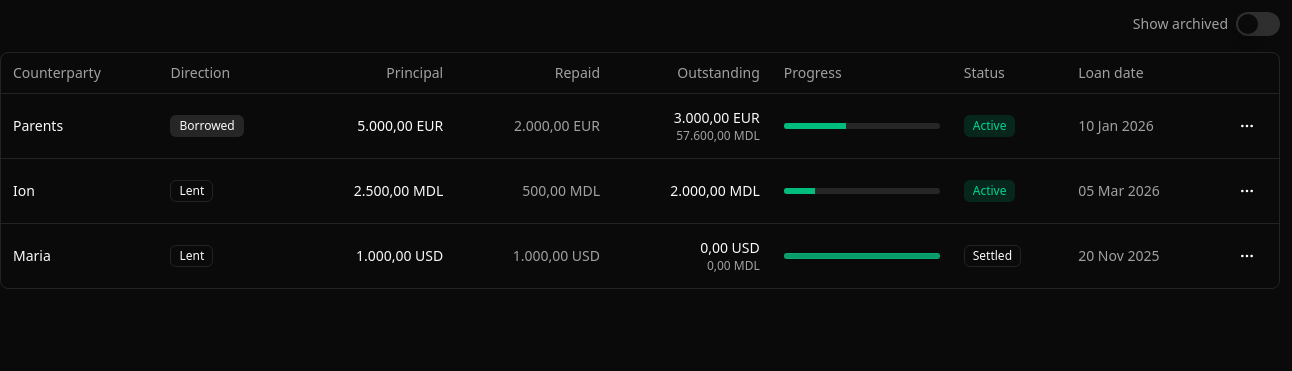
Test case: LoansTable › hides "Record payment" in the row menu for settled loans
This screenshot has width=1292, height=371.
Expected: the number of rows with test id "loan-row" is 3, [1, 93, 1279, 158]; [1, 158, 1279, 223]; [1, 223, 1279, 288]
# Settled row (Maria) — no Record payment action.
Click the button with test id "loan-actions": (1247,256) [1227, 236, 1267, 276]
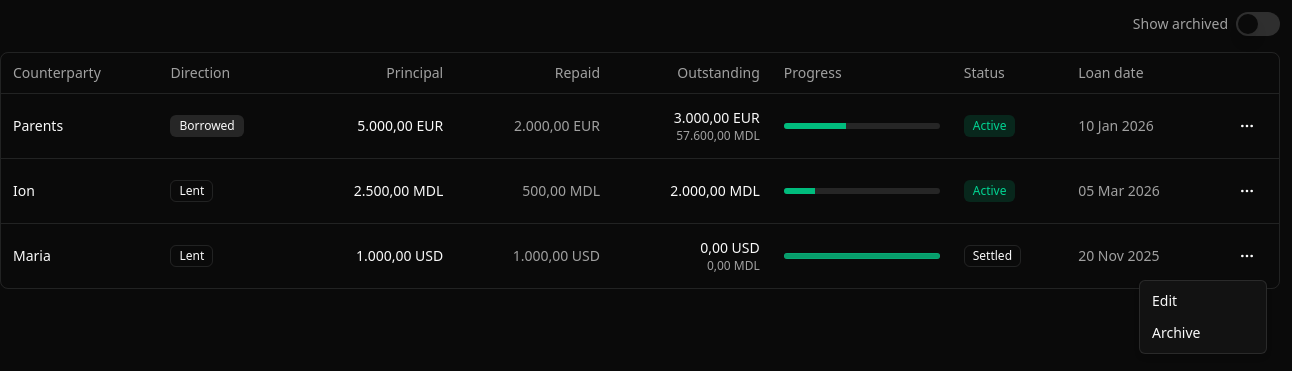
Expected: the menu item with test id "edit-loan-action" is shown, [1152, 291, 1177, 310]
Press Escape
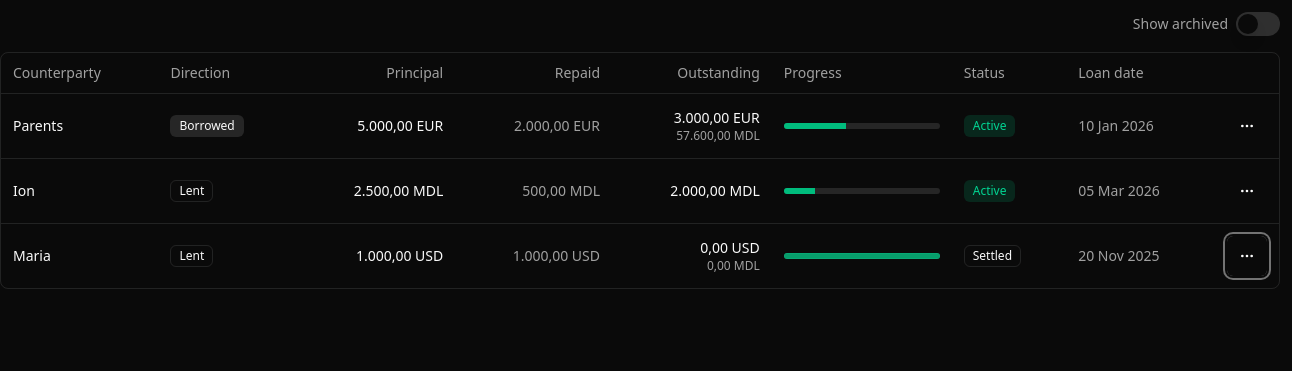
# Active row (Ion) — Record payment shows up.
Click the button with test id "loan-actions": (1247,190) [1227, 170, 1267, 210]
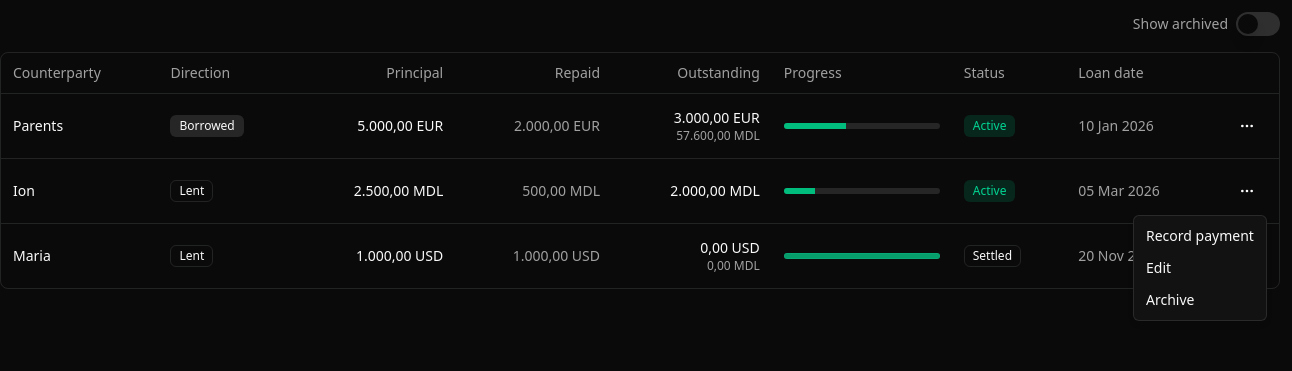
Expected: the menu item with test id "record-payment-action" is shown, [1146, 226, 1254, 245]
